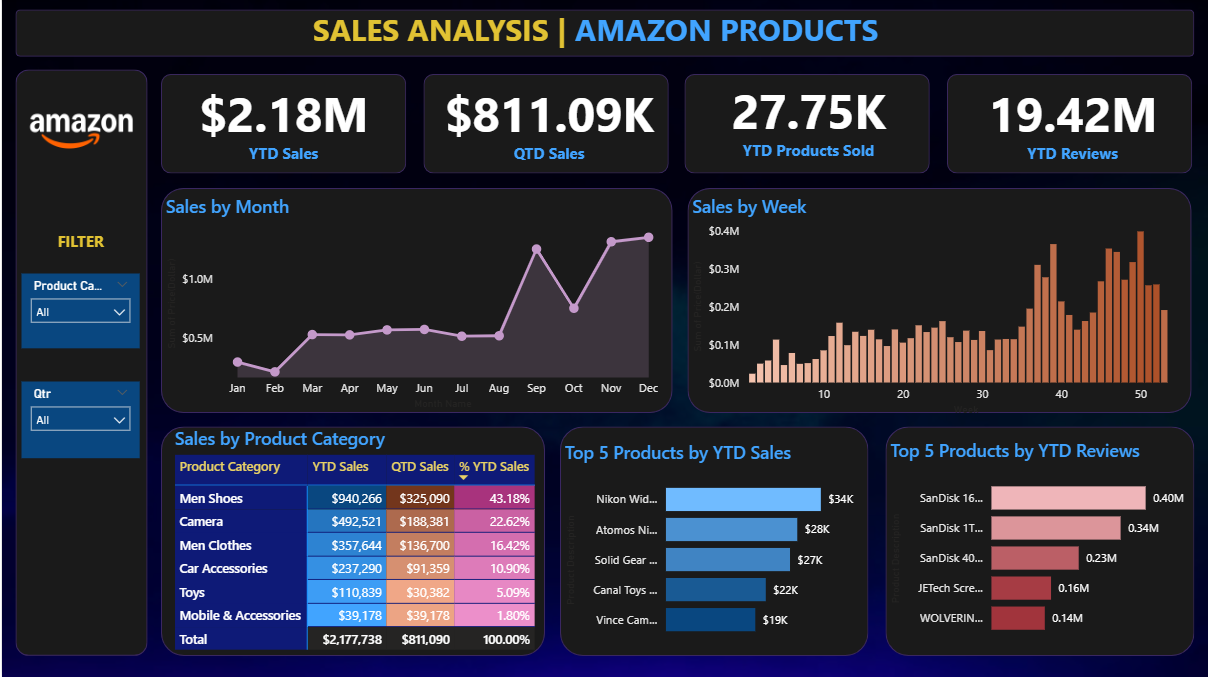

Layout of this report page (visuals, bound fields, positions):
{"tool":"powerbi","page":{"name":"Page 1","canvas":[1280,720],"ordinal":0},"visuals":[{"type":"shape","box":[15,75,140,621.7],"z":0},{"type":"shape","box":[15,11.7,1250,50],"z":1000},{"type":"shape","box":[446.4,79.4,260,105.5],"z":2000},{"type":"textbox","box":[324.2,4.8,630.6,62.9],"z":3000},{"type":"shape","box":[168.6,79.4,260,105.5],"z":4000},{"type":"card","fields":{"Values":["Amazon_Data.YTD Sales"]},"box":[168.6,76.3,259.3,106.6],"z":5000},{"type":"card","fields":{"Values":["Amazon_Data.QTD Sales"]},"box":[450.1,75.9,259.3,106.6],"z":6000},{"type":"shape","box":[1002,79.4,260,105.5],"z":7000},{"type":"card","fields":{"Values":["Amazon_Data.YTD Reviews"]},"box":[1005.2,76.2,259.3,106.6],"z":8000},{"type":"shape","box":[724.2,79.4,260,105.5],"z":9000},{"type":"card","fields":{"Values":["Amazon_Data.YTD Products Sold"]},"box":[725.3,73.2,259.3,106.6],"z":10000},{"type":"shape","box":[168.6,200.4,542.4,238.6],"z":11000},{"type":"areaChart","title":"Sales by Month","fields":{"Category":["Date Table.Month Name"],"Y":["Sum(Amazon_Data.Price(Dollar))"]},"box":[168.6,206.8,537.6,232.2],"z":12000},{"type":"shape","box":[726.9,200.4,534.4,238.6],"z":13000},{"type":"columnChart","title":"Sales by Week","fields":{"Category":["Date Table.Week"],"Y":["Sum(Amazon_Data.Price(Dollar))"]},"box":[726.9,206.8,534.4,238.6],"z":14000},{"type":"shape","box":[168.6,453.3,407.2,243.4],"z":15000},{"type":"pivotTable","title":"Sales by Product Category","fields":{"Rows":["Amazon_Data.Product Category"],"Values":["Amazon_Data.YTD Sales1","Amazon_Data.QTD Sales","Amazon_Data.YTD Sales"]},"box":[178.1,453.3,397.7,248.1],"z":16000},{"type":"shape","box":[591.7,453.3,327,243.4],"z":17000},{"type":"shape","box":[936.9,453.3,327.7,243.4],"z":18000},{"type":"clusteredBarChart","title":"Top 5 Products by YTD Sales","fields":{"Category":["Amazon_Data.Product Description"],"Y":["Amazon_Data.YTD Sales"]},"box":[591.7,467.6,327.7,221.1],"z":19000},{"type":"clusteredBarChart","title":"Top 5 Products by YTD Reviews","fields":{"Category":["Amazon_Data.Product Description"],"Y":["Amazon_Data.YTD Reviews"]},"box":[936.9,466,327.7,221.1],"z":20000},{"type":"slicer","fields":{"Values":["Amazon_Data.Product Category"]},"box":[20.7,291.1,125.7,79.5],"z":21000},{"type":"slicer","fields":{"Values":["Date Table.Qtr"]},"box":[20.7,405.6,125.7,81.1],"z":22000},{"type":"image","box":[14.3,79.5,140,127.2],"z":23000},{"type":"textbox","box":[20.7,240.2,125.7,41.4],"z":24000}]}

Visuals, with their boxes in screenshot pixels (x1, y1, x2, y2), scaled from the page's 1280x720 canvas onto the 1208x677 screenshot:
shape: (x1=14, y1=71, x2=146, y2=655)
shape: (x1=14, y1=11, x2=1194, y2=58)
shape: (x1=421, y1=75, x2=667, y2=174)
textbox: (x1=306, y1=5, x2=901, y2=64)
shape: (x1=159, y1=75, x2=404, y2=174)
card - Amazon_Data.YTD Sales: (x1=159, y1=72, x2=404, y2=172)
card - Amazon_Data.QTD Sales: (x1=425, y1=71, x2=669, y2=172)
shape: (x1=946, y1=75, x2=1191, y2=174)
card - Amazon_Data.YTD Reviews: (x1=949, y1=72, x2=1193, y2=172)
shape: (x1=683, y1=75, x2=929, y2=174)
card - Amazon_Data.YTD Products Sold: (x1=685, y1=69, x2=929, y2=169)
shape: (x1=159, y1=188, x2=671, y2=413)
"Sales by Month" areaChart: (x1=159, y1=194, x2=666, y2=413)
shape: (x1=686, y1=188, x2=1190, y2=413)
"Sales by Week" columnChart: (x1=686, y1=194, x2=1190, y2=419)
shape: (x1=159, y1=426, x2=543, y2=655)
"Sales by Product Category" pivotTable: (x1=168, y1=426, x2=543, y2=660)
shape: (x1=558, y1=426, x2=867, y2=655)
shape: (x1=884, y1=426, x2=1193, y2=655)
"Top 5 Products by YTD Sales" clusteredBarChart: (x1=558, y1=440, x2=868, y2=648)
"Top 5 Products by YTD Reviews" clusteredBarChart: (x1=884, y1=438, x2=1193, y2=646)
slicer - Amazon_Data.Product Category: (x1=20, y1=274, x2=138, y2=348)
slicer - Date Table.Qtr: (x1=20, y1=381, x2=138, y2=458)
image: (x1=13, y1=75, x2=146, y2=194)
textbox: (x1=20, y1=226, x2=138, y2=265)
